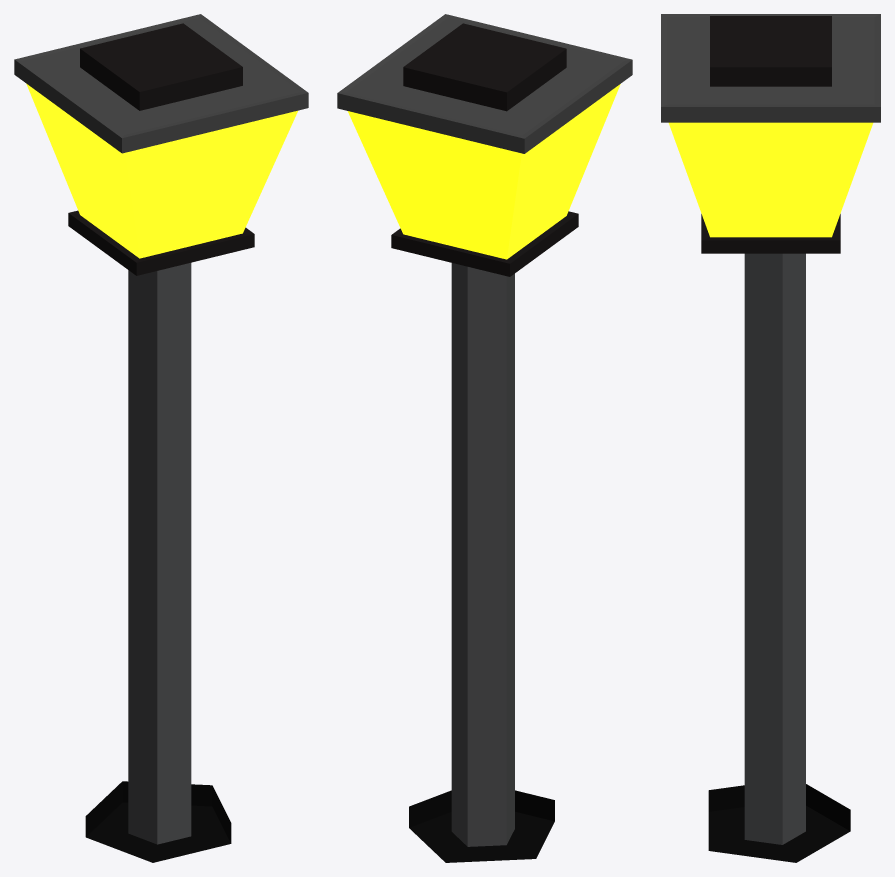
Rendered from light.fbx.
3 renders of one model, left to right at view 1: azimuth 30°, elevation 25°; view 2: azimuth 150°, elevation 25°; view 3: azimuth 270°, elevation 25°, orthographic. The views are drawn at different scales.
Visible parts, largest first — view 1: Cube, Cylinder.001, Cylinder; view 2: Cube, Cylinder.001, Cylinder; view 3: Cube, Cylinder.001, Cylinder.
Boxes of the visible parts, box(x1,y1,x2,y2) form: Cube: box(14, 14, 308, 275); Cylinder.001: box(128, 263, 191, 844); Cylinder: box(85, 781, 231, 862); Cube: box(337, 14, 632, 276); Cylinder.001: box(451, 263, 514, 846); Cylinder: box(409, 790, 554, 862); Cube: box(661, 14, 880, 253); Cylinder.001: box(744, 253, 805, 844); Cylinder: box(708, 784, 850, 862).
Bounding box in the file's own units: 212 × 843 × 212.
